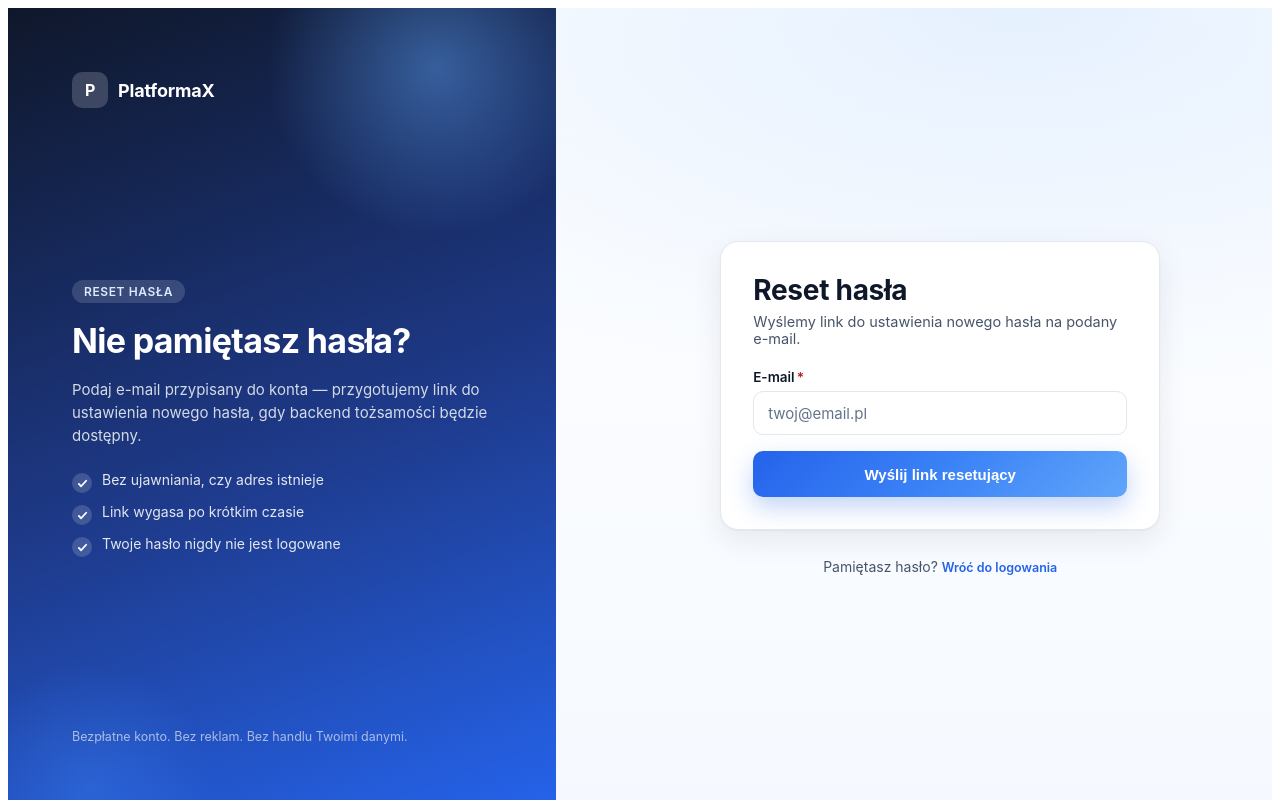
ResetPasswordRoute › renders a safe error from the adapter and keeps the form
Type "anna@example.org" into the field labelled "E-mail*" at coordinates (940, 413), box [753, 391, 1127, 435]
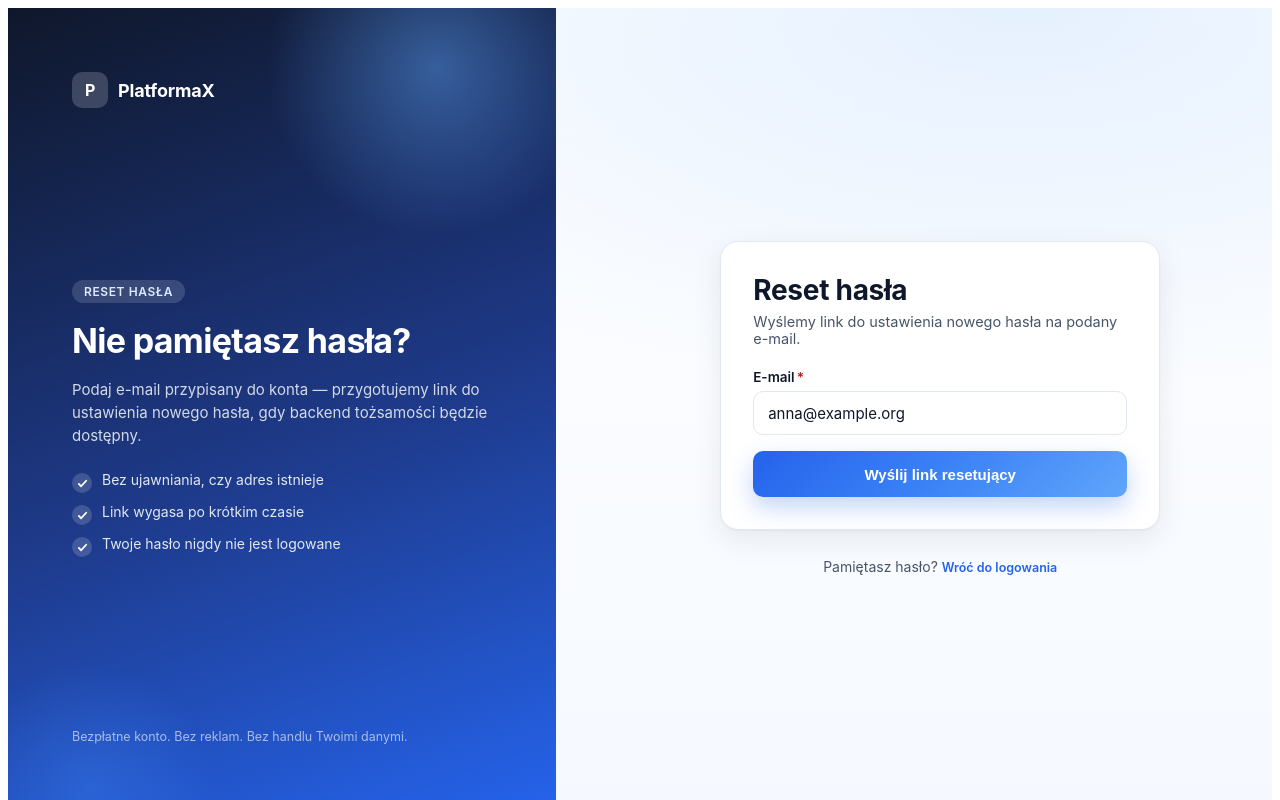
Click the button "Wyślij link resetujący" at coordinates (940, 474), box [753, 451, 1127, 497]
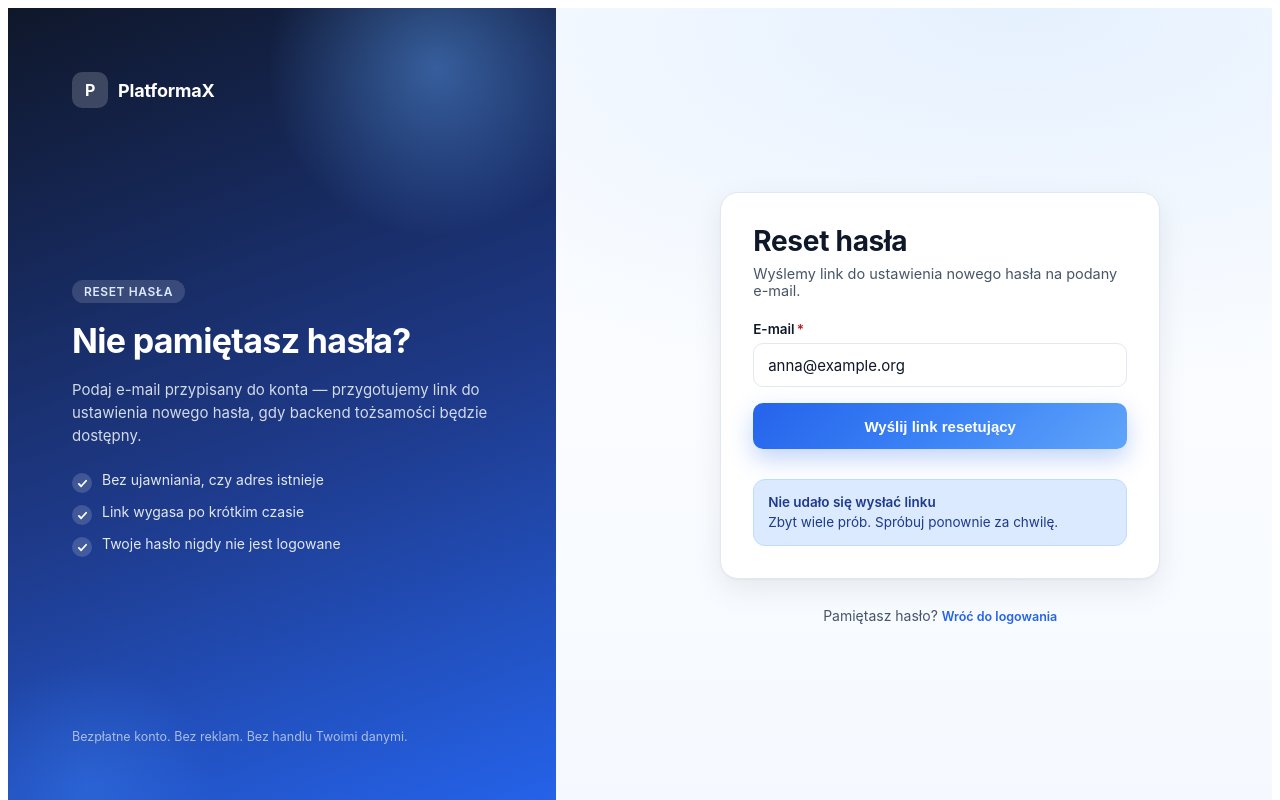
Check: the button "Wyślij link resetujący" is shown, box [753, 403, 1127, 449]
Check: the text "Zbyt wiele prób. Spróbuj ponownie za chwilę." is shown, box [768, 514, 1058, 530]
